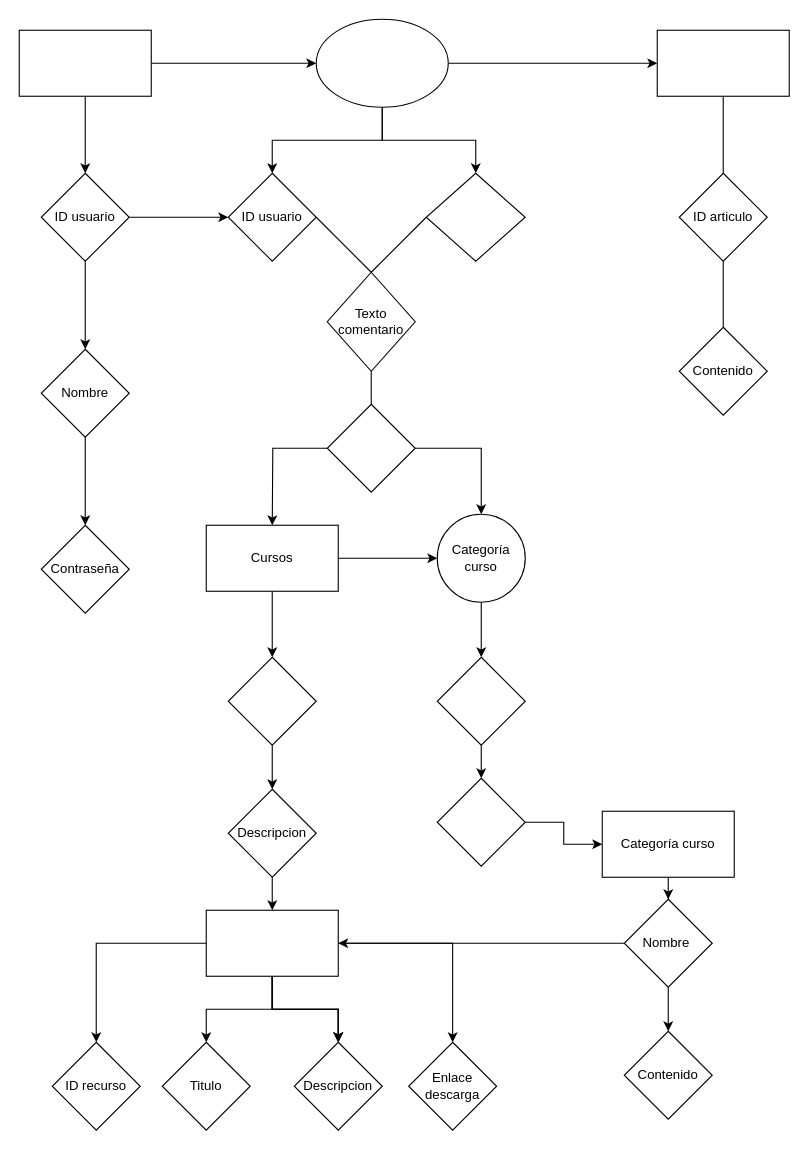
Image size: 809x1150. Some labels were removed from this diagram. Each missing label, with the box of its shape:
Artículos: (656, 29, 789, 96)
Comentarios: (315, 18, 448, 107)
Fecha del comentario: (326, 403, 415, 492)
ID categoria: (436, 777, 525, 866)
ID comentario: (425, 172, 525, 261)
ID curso: (436, 656, 525, 745)
Recursos: (205, 909, 338, 976)
Título: (227, 656, 316, 745)
Usuarios: (18, 29, 151, 96)
